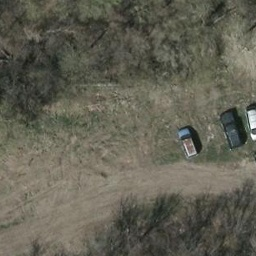car: (221, 111, 239, 149), (180, 127, 199, 161)
